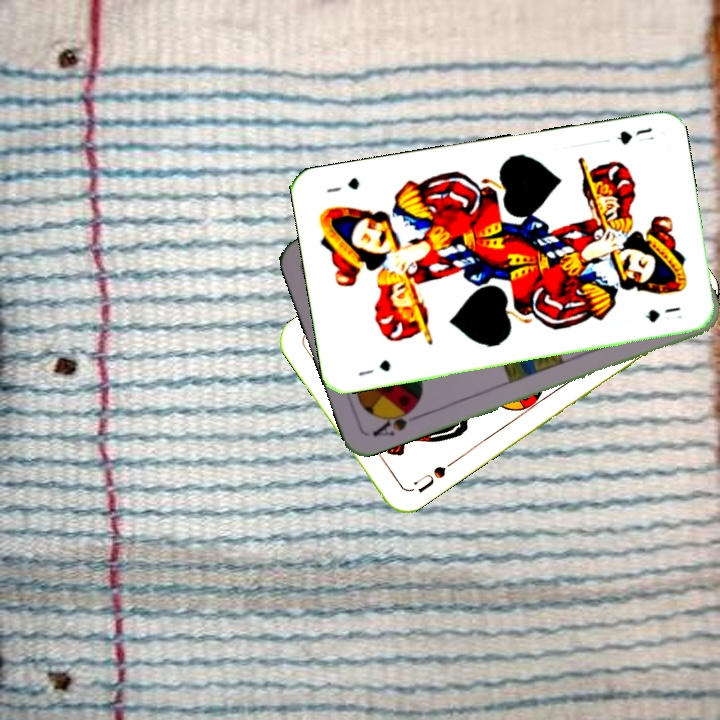GU: (613, 123, 657, 148), (354, 356, 393, 379)
SA: (368, 401, 424, 439)
SU: (405, 456, 458, 495)
